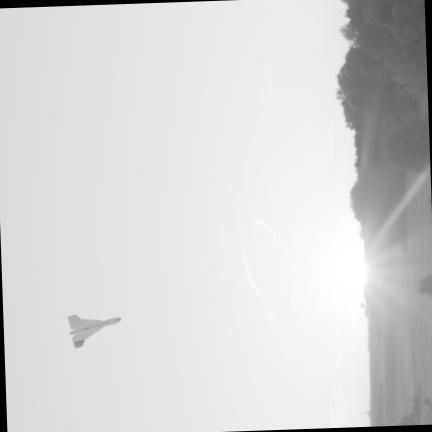Shahed: (69, 314, 120, 347)
